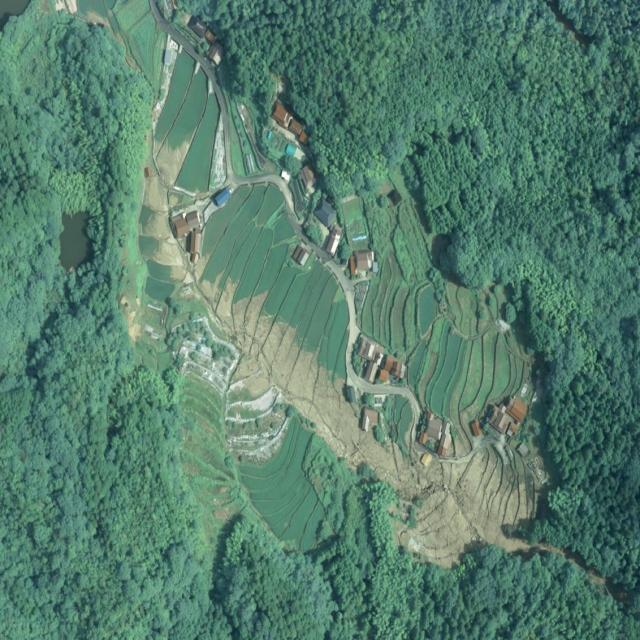landslide: (260, 334, 539, 568)
